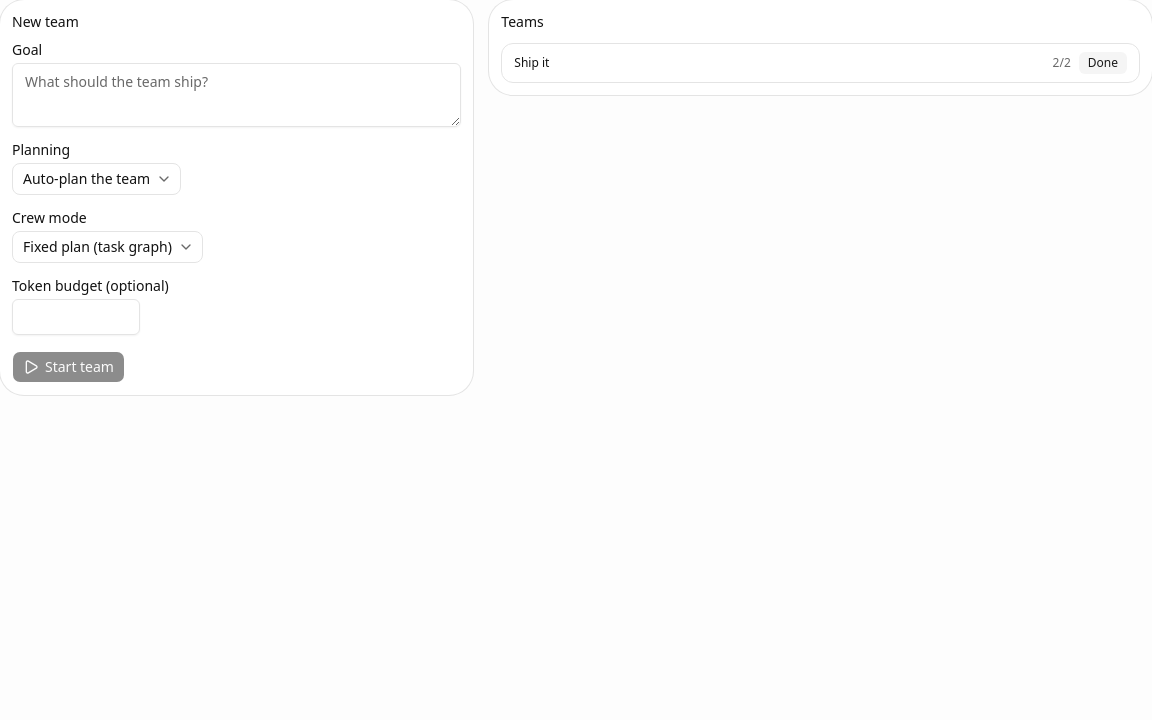
selects a team to see tasks, timeline, and blackboard
Click the button "Ship it 2/2 Done". click: (532, 63)
box: [501,43,1140,83]
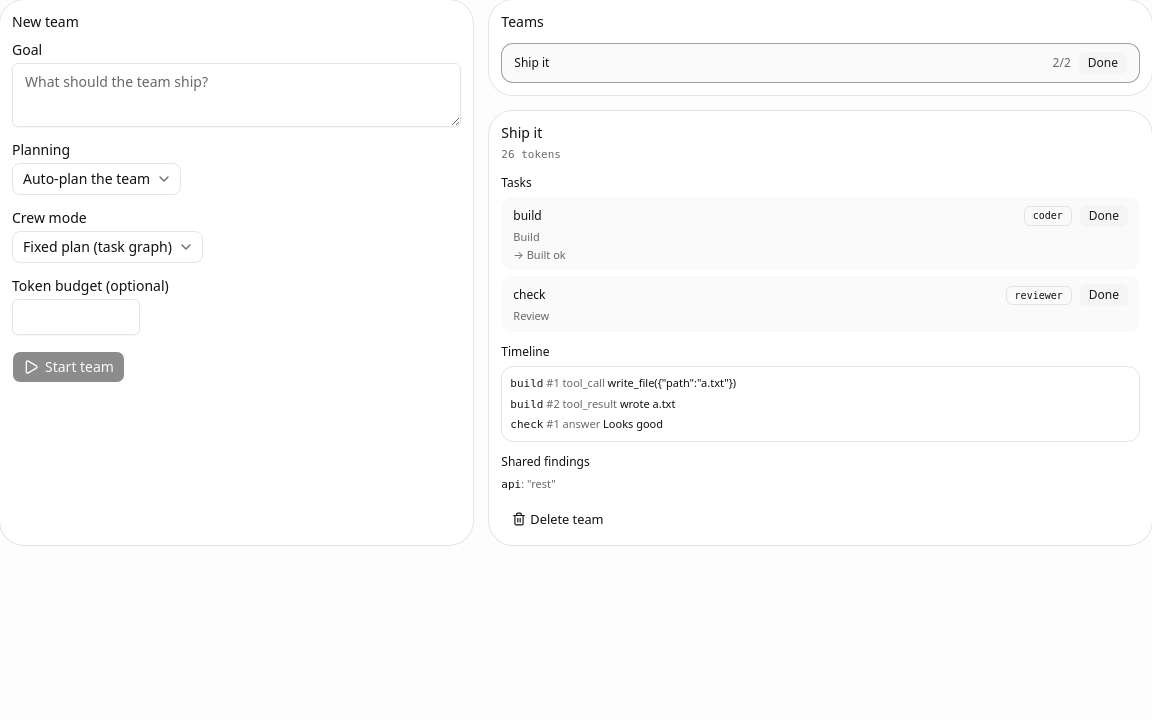
Now the text "build" is shown, box [513,207,542,224]
Now the text "reviewer" is shown, box [1006,286,1072,305]
Now the text "wrote a.txt" is shown, box [620,396,675,411]
